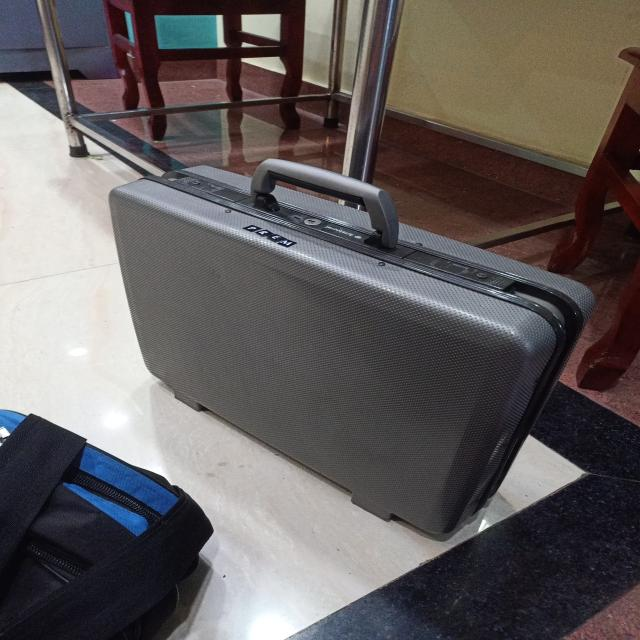suitcaserotation: (102, 155, 600, 540)
